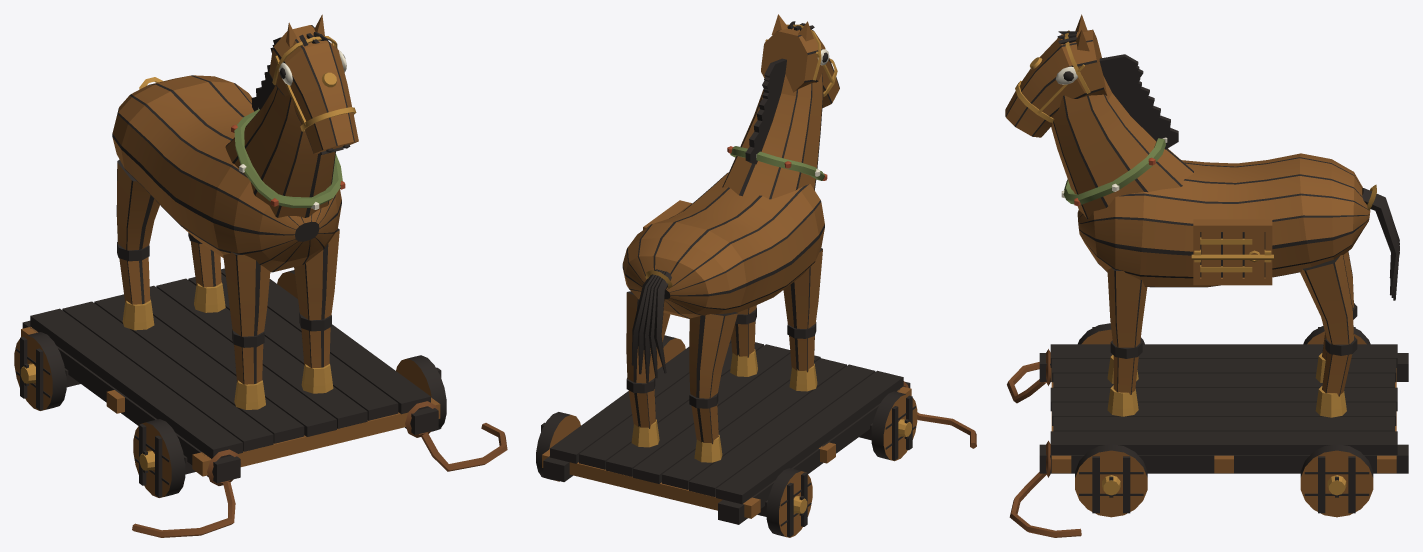
Rendered from horseClosed.glb.
3 views of the same model, side by side, from view 1: azimuth 30°, elevation 25°; view 2: azimuth 150°, elevation 25°; view 3: azimuth 270°, elevation 25° (orthographic). The views are drawn at different scales.
Parts seen in each view (by area): view 1: horseClosed; view 2: horseClosed; view 3: horseClosed.
Boxes of the visible parts, left/top/right/bottom form: horseClosed: left=14, top=14, right=507, bottom=537; horseClosed: left=536, top=14, right=976, bottom=537; horseClosed: left=1005, top=14, right=1408, bottom=537.
Bounding box in the file's own units: 1.9 × 2.2 × 1.86.
